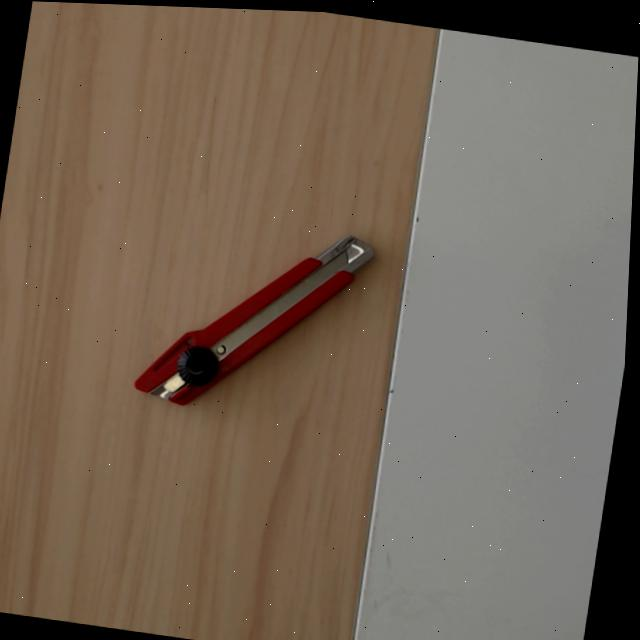Cutter-Besar: (125, 210, 381, 425)
